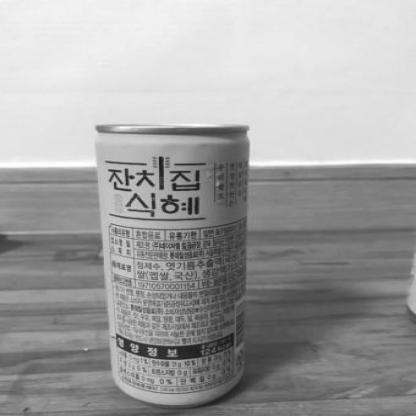alumunium_can: (83, 114, 261, 408)
